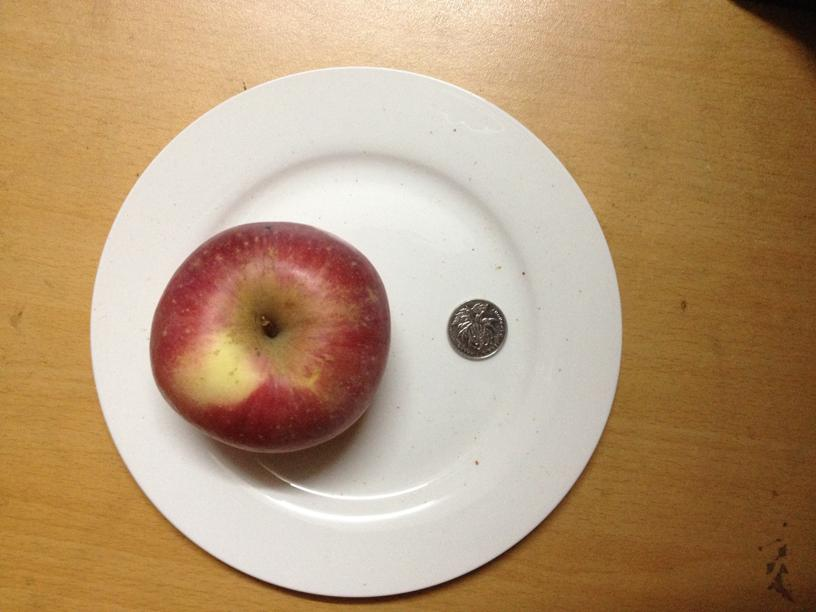apple: (145, 224, 392, 451)
coin: (444, 298, 506, 360)
